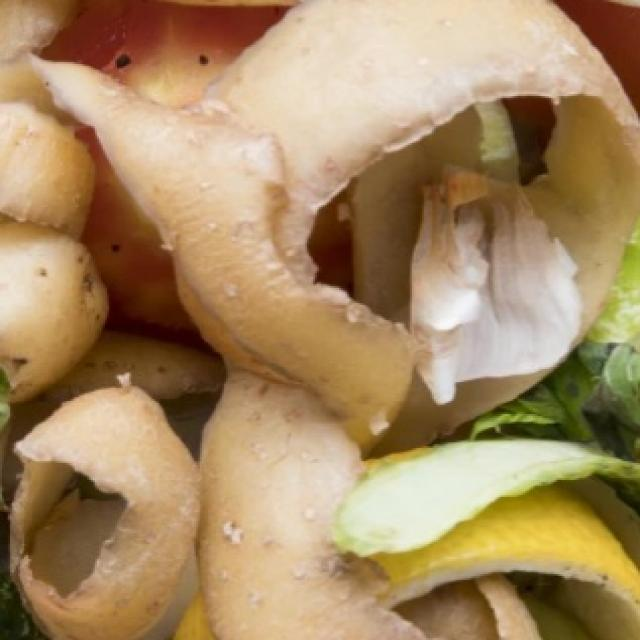food waste: (26, 0, 640, 629)
